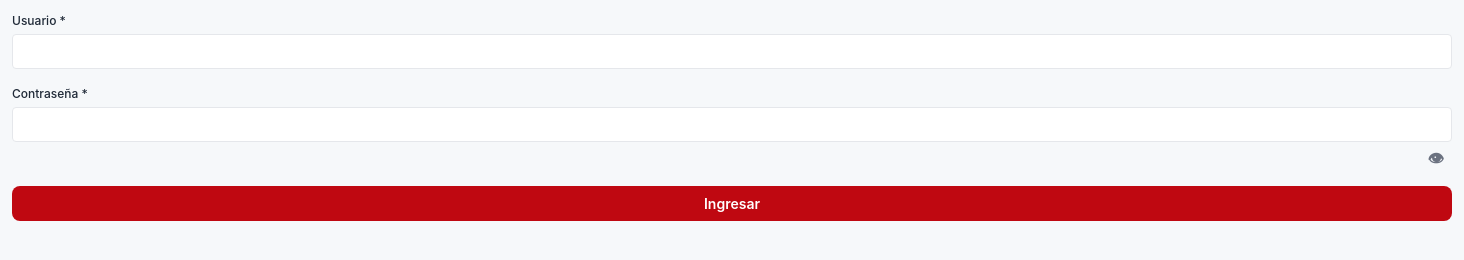
Test: LoginForm › enfoca la contraseña cuando solo falta ese campo
Type "estudiante.demo" into the field labelled "Usuario *" at point(732, 52), box [12,34,1452,69]
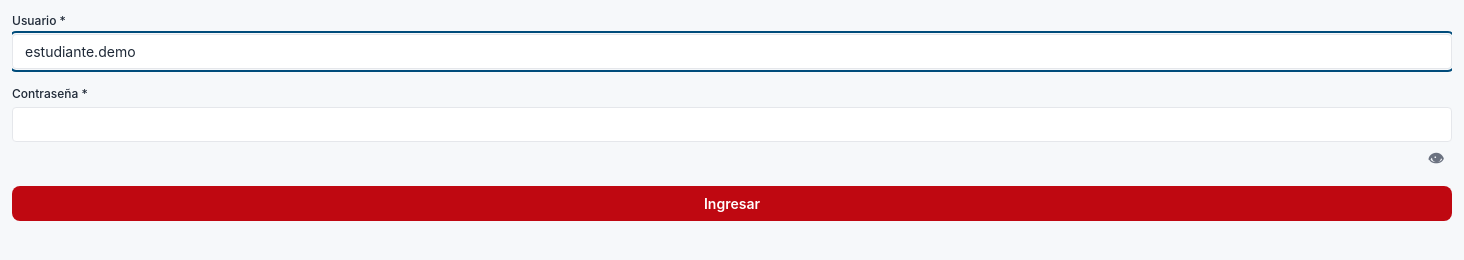
Click the button "Ingresar" at point(732, 204), box [12,186,1452,221]
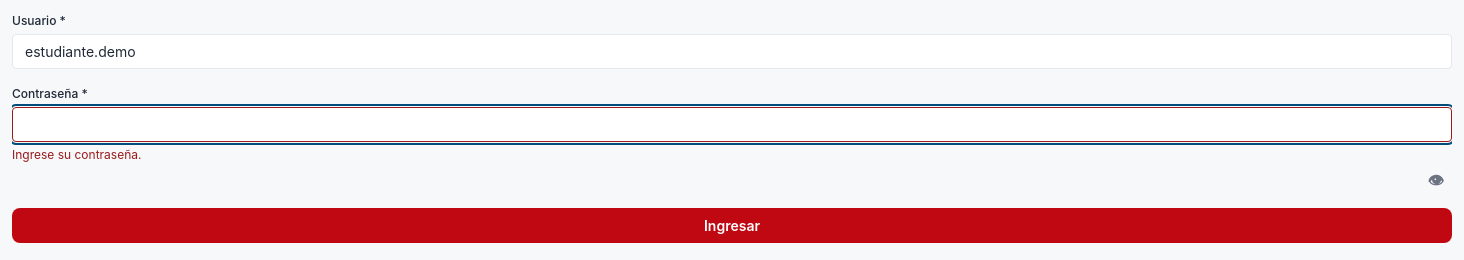
Check: the text "Ingrese su contraseña." is shown, box [12,147,141,162]
